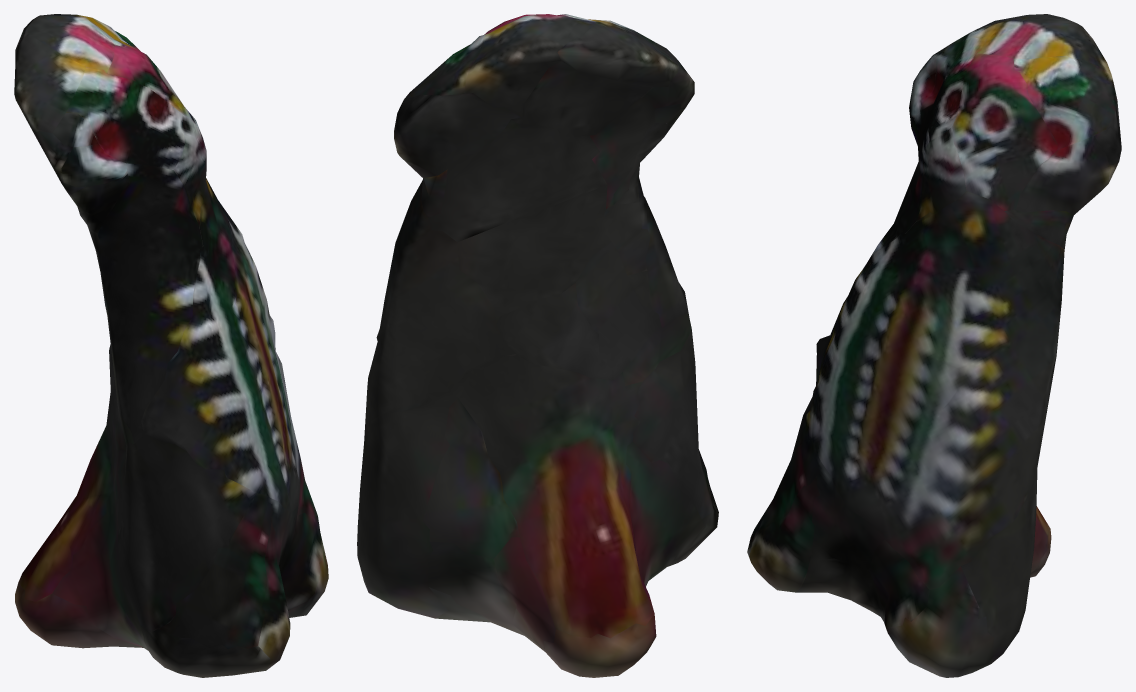
File: hall.glb
3 renders of one model, left to right at view 1: azimuth 30°, elevation 25°; view 2: azimuth 150°, elevation 25°; view 3: azimuth 270°, elevation 25°, orthographic. The views are drawn at different scales.
Bounding box in the file's own units: 0.3186 × 0.6377 × 0.381.
Materials: 1 (1 with a texture image).
